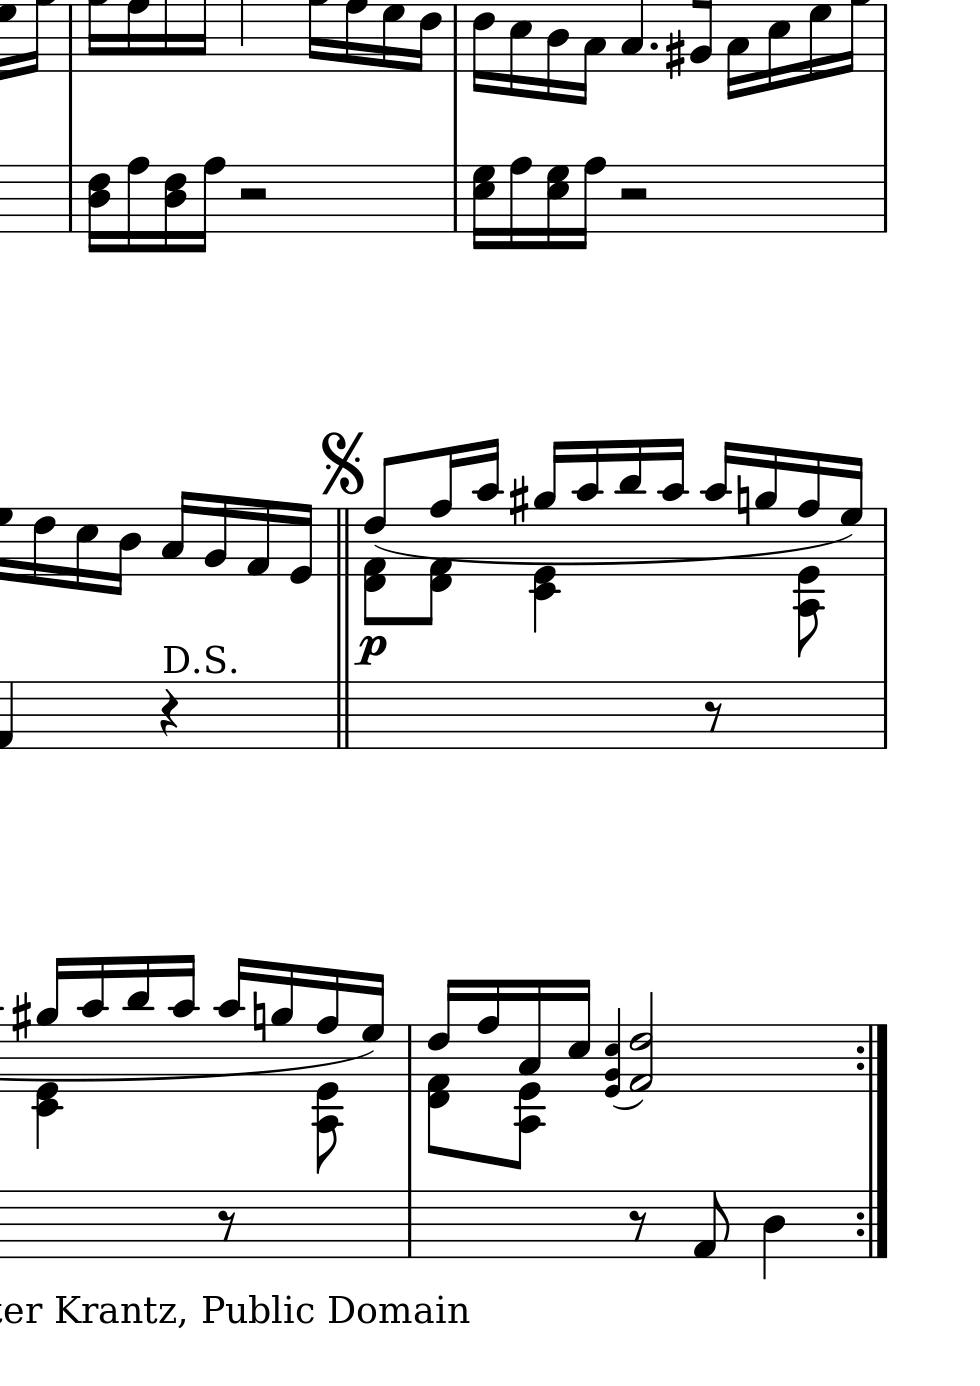16_0: (287, 502, 314, 586)
16_1: (244, 496, 272, 578)
16_10: (168, 952, 196, 1094), (574, 438, 602, 577), (78, 955, 107, 1093), (658, 437, 685, 577), (473, 435, 500, 578), (703, 438, 730, 578), (216, 958, 244, 1091)
16_11: (615, 437, 644, 578), (123, 954, 152, 1095)
16_2: (202, 493, 229, 577)
16_3: (575, 3, 605, 107), (159, 489, 191, 576), (724, 2, 749, 102)
16_4: (110, 506, 140, 597), (544, 2, 568, 104)
16_5: (566, 976, 592, 1094), (507, 1, 532, 98), (765, 1, 790, 92), (72, 505, 98, 593)
16_6: (470, 1, 495, 94), (410, 2, 442, 73), (31, 505, 55, 589)
16_7: (360, 972, 385, 1096), (839, 453, 862, 576), (806, 1, 830, 84), (379, 1, 404, 76)
16_8: (191, 155, 223, 255), (475, 976, 502, 1094), (573, 155, 603, 252), (507, 153, 532, 251), (125, 153, 150, 253)
16_9: (752, 446, 778, 577), (268, 962, 293, 1093)
4_4: (760, 1189, 786, 1281)
8_1: (692, 1190, 731, 1260)
D_S: (162, 643, 237, 674)
Double_barline: (330, 681, 355, 749), (332, 508, 353, 576)
Natural: (734, 472, 752, 529), (250, 988, 268, 1045)
Rests2: (237, 185, 270, 203), (616, 185, 650, 203)
Rests4: (159, 687, 180, 738)
Rests8: (627, 1208, 648, 1242), (216, 1207, 237, 1242), (702, 699, 723, 732)
RightRepeatSign: (853, 1023, 891, 1093), (852, 1190, 890, 1258)
Segno: (315, 428, 367, 496)
Sharp: (506, 473, 530, 527), (664, 29, 685, 82), (10, 992, 31, 1043)
Single_barline: (447, 4, 463, 74), (875, 682, 893, 748), (62, 4, 78, 73), (447, 165, 463, 233), (63, 165, 78, 233), (876, 508, 892, 575), (401, 1191, 417, 1257), (402, 1025, 417, 1092), (877, 166, 892, 232), (879, 4, 893, 73)
Slur: (611, 1096, 645, 1111)
dot: (647, 39, 659, 51)
p: (354, 632, 389, 669)
